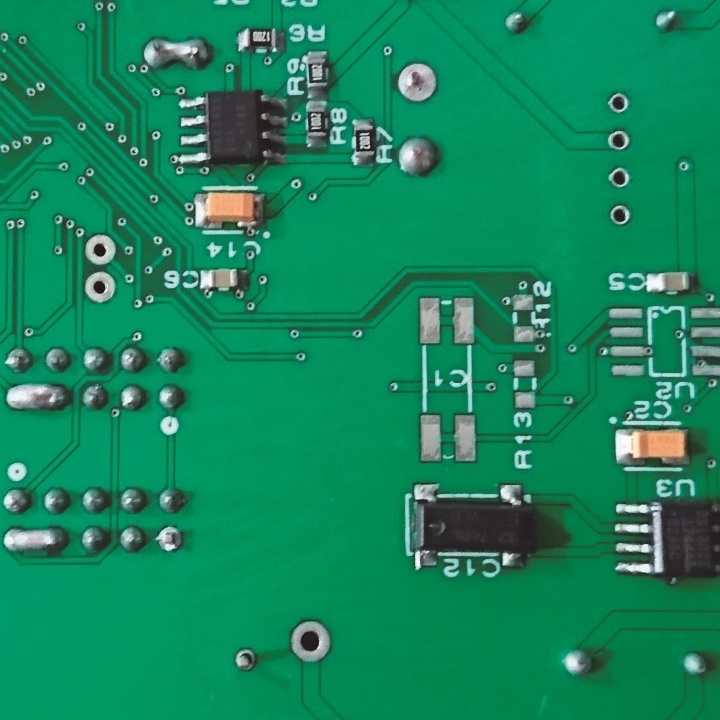F: (287, 615, 333, 667), (393, 60, 441, 105), (83, 268, 117, 309), (82, 232, 116, 269), (230, 646, 258, 676), (158, 526, 184, 555), (607, 164, 633, 192), (605, 127, 632, 152), (606, 92, 633, 116), (610, 204, 635, 229)
P: (4, 380, 73, 416), (4, 522, 70, 558), (141, 36, 210, 69)
